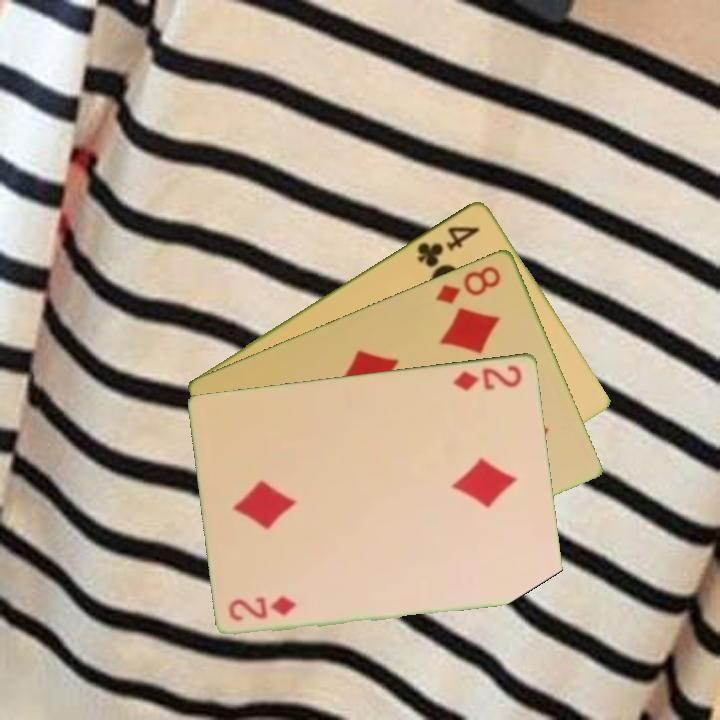2d: (449, 361, 525, 393), (225, 593, 300, 623)
4c: (413, 221, 483, 270)
8d: (432, 262, 504, 307)
